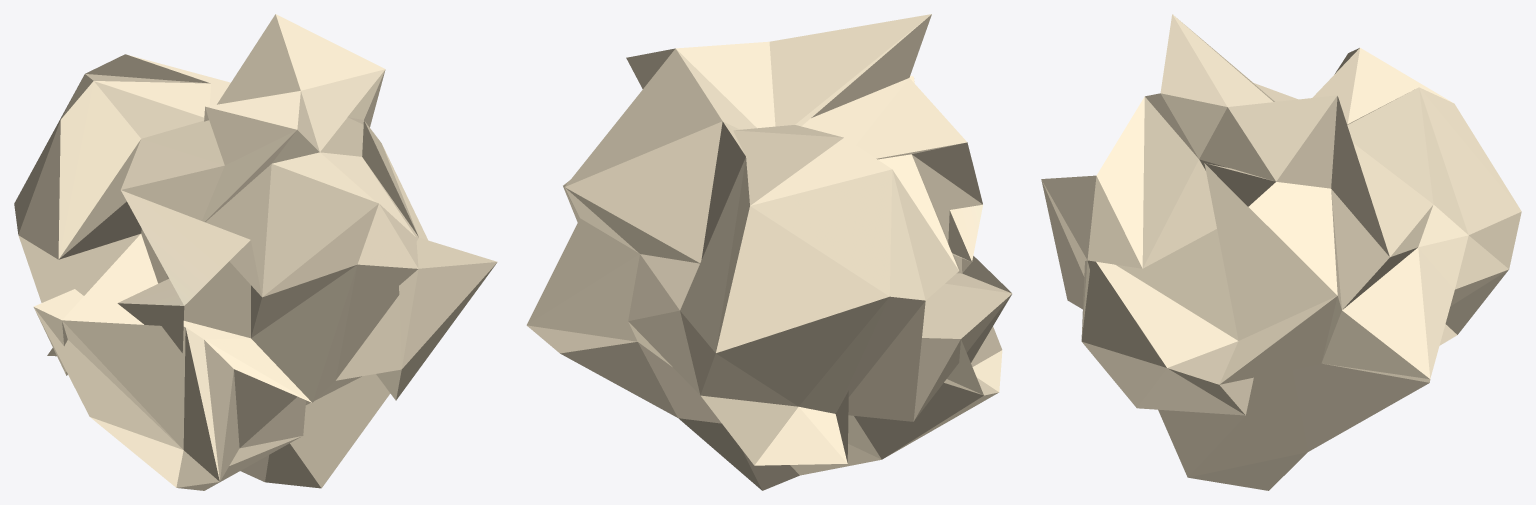
Rendered from PaperBall.fbx.
3 views of the same model, side by side, from view 1: azimuth 30°, elevation 25°; view 2: azimuth 150°, elevation 25°; view 3: azimuth 270°, elevation 25° (orthographic). The views are drawn at different scales.
Visible parts, largest first — view 1: PaperBall; view 2: PaperBall; view 3: PaperBall.
Part boxes in pixels (x1,y1,x2,y2): PaperBall: (14, 14, 497, 490); PaperBall: (526, 14, 1012, 490); PaperBall: (1041, 14, 1521, 490).
Size of the model in its own units: 214 by 224 by 230.
